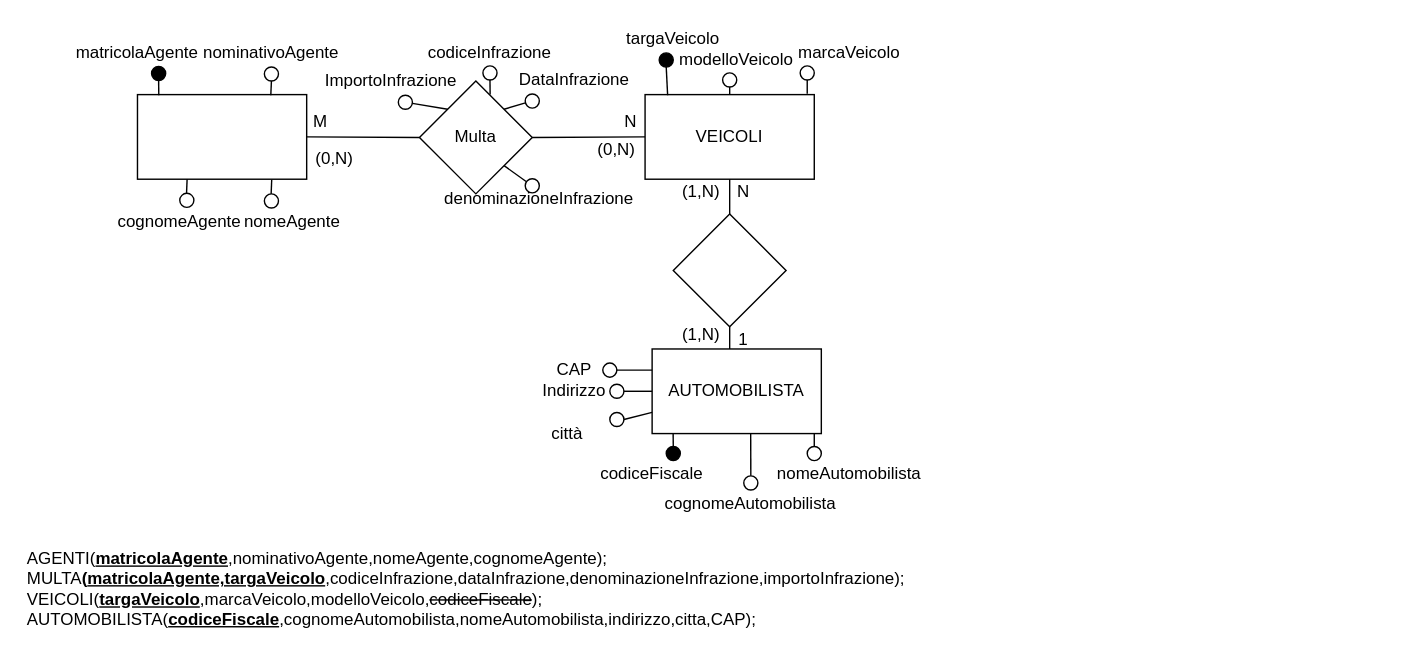
The diagram is 1402 pixels wide and 668 high, and some of its shapes have lost their labels. The centre of each missing label's shape, as x and y in pixels:
"AGENTI" belongs at point 221,136.
"POSSIEDE" belongs at point 729,270.
